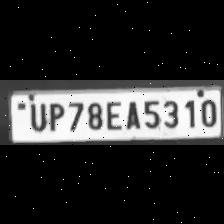0: (196, 94, 218, 125)
1: (179, 96, 197, 128)
3: (160, 96, 180, 128)
5: (140, 96, 160, 128)
7: (64, 98, 84, 132)
8: (84, 98, 103, 130)
A: (123, 97, 141, 129)
E: (104, 96, 122, 130)
P: (45, 99, 65, 131)
U: (26, 99, 48, 131)
